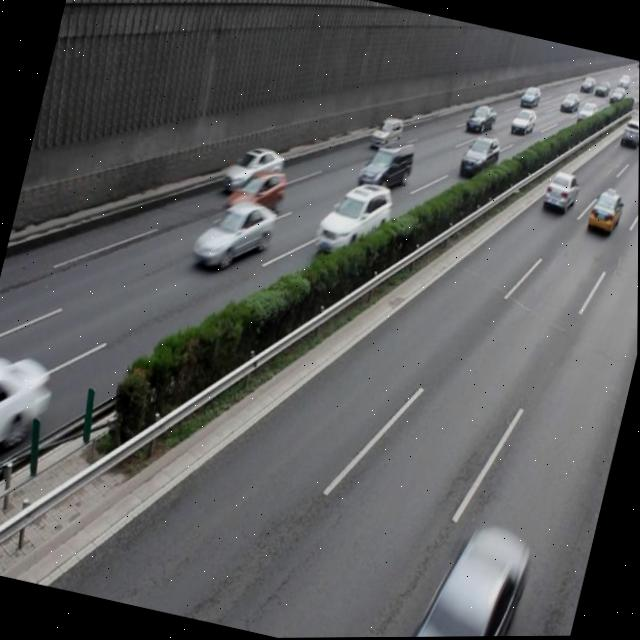car: (398, 506, 536, 638), (0, 344, 56, 485), (189, 191, 278, 279), (311, 174, 397, 262), (224, 157, 290, 221), (221, 140, 287, 201), (457, 133, 502, 183), (583, 187, 625, 240), (539, 169, 580, 217), (370, 113, 404, 152)
truck: (356, 133, 417, 192)
